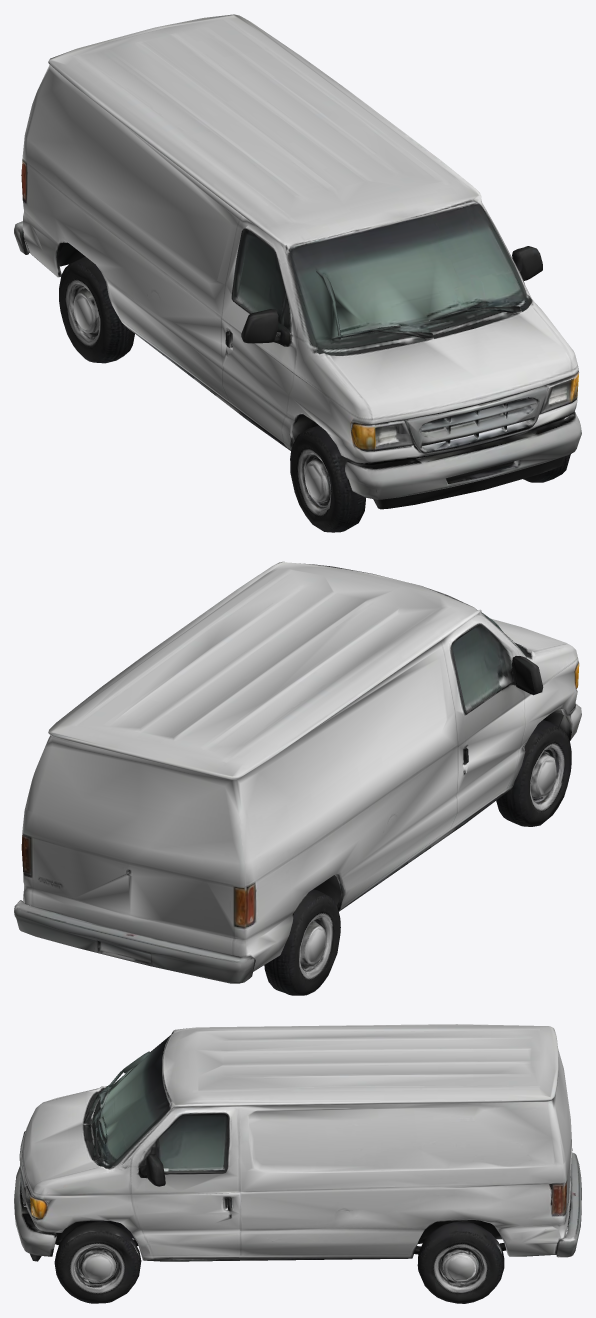
File: van_white.glb
3 renders of one model, top to bottom at view 1: azimuth 30°, elevation 25°; view 2: azimuth 150°, elevation 25°; view 3: azimuth 270°, elevation 25°, orthographic. The views are drawn at different scales.
Visible parts, largest first — view 1: node_0; view 2: node_0; view 3: node_0.
Part boxes in pixels (x1,y1,x2,y2): node_0: (14,14,581,532); node_0: (14,561,581,995); node_0: (14,1024,581,1303).
Bounding box in the file's own units: 0.5428 × 0.4575 × 1.14.
Materials: 1 (1 with a texture image).
